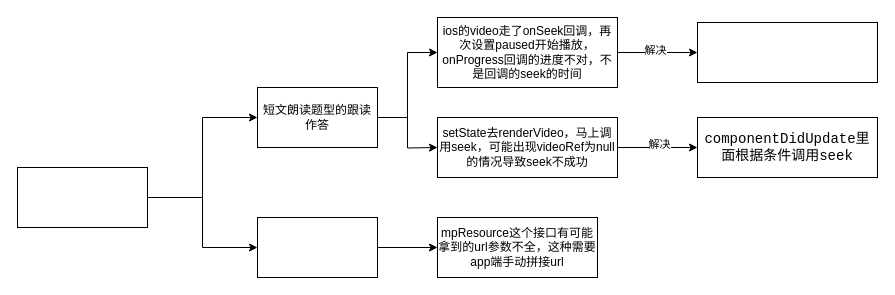
Image size: 895x295. Some labels were removed from this diagram. Each missing label, with the box of its shape:
5.0.2复盘: (16, 166, 148, 228)
onseek保存seek时间，onprogress的时候根据条件过滤掉一次回调: (696, 22, 878, 82)
资源列表支持单词书入口: (256, 216, 378, 278)
